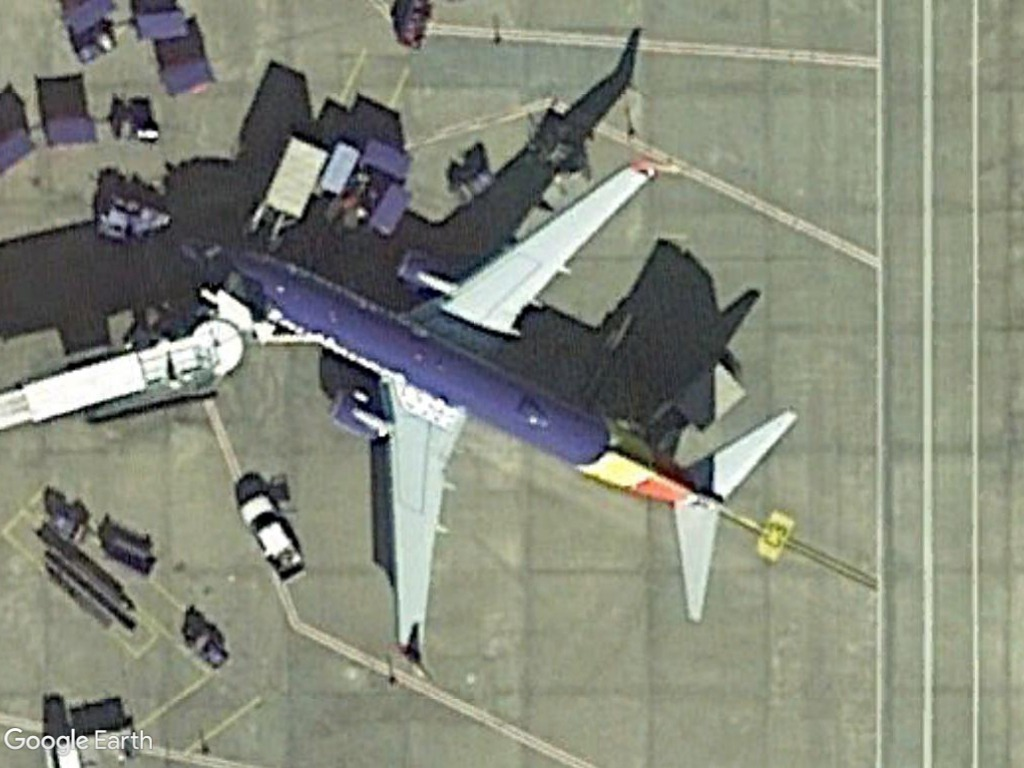airliner: (205, 145, 817, 669)
other: (236, 489, 295, 581)
